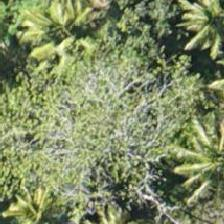coconut_tree: (21, 0, 111, 86), (165, 114, 223, 204), (150, 0, 223, 46)
